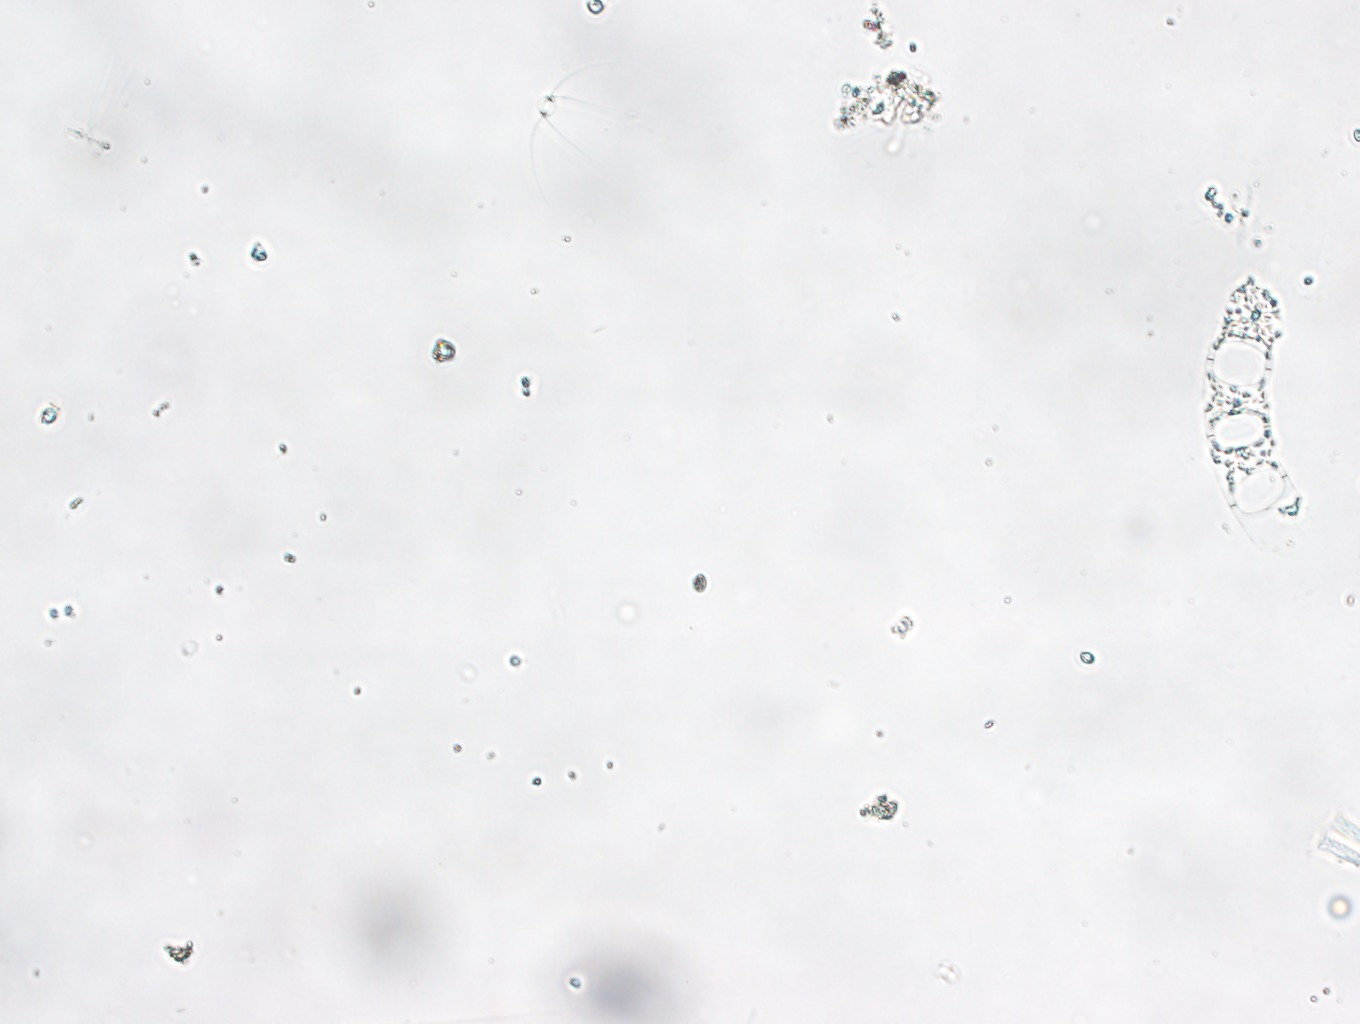eucampia: (1184, 257, 1319, 531)
